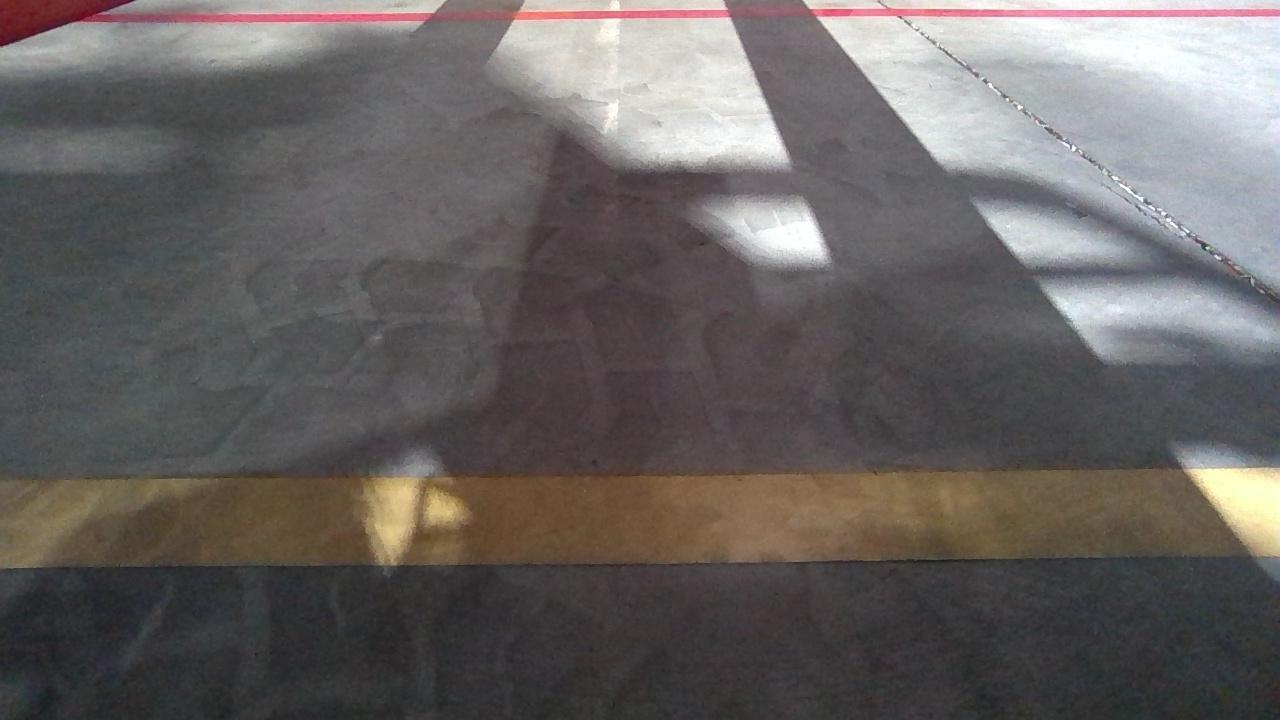red_line: (79, 8, 1280, 22)
yellow_line: (0, 477, 1279, 566)
